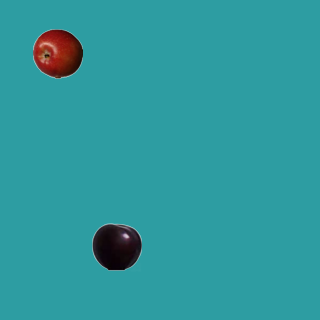Apple Braeburn: (32, 28, 82, 78)
Cherry Wax Black: (91, 221, 141, 271)
